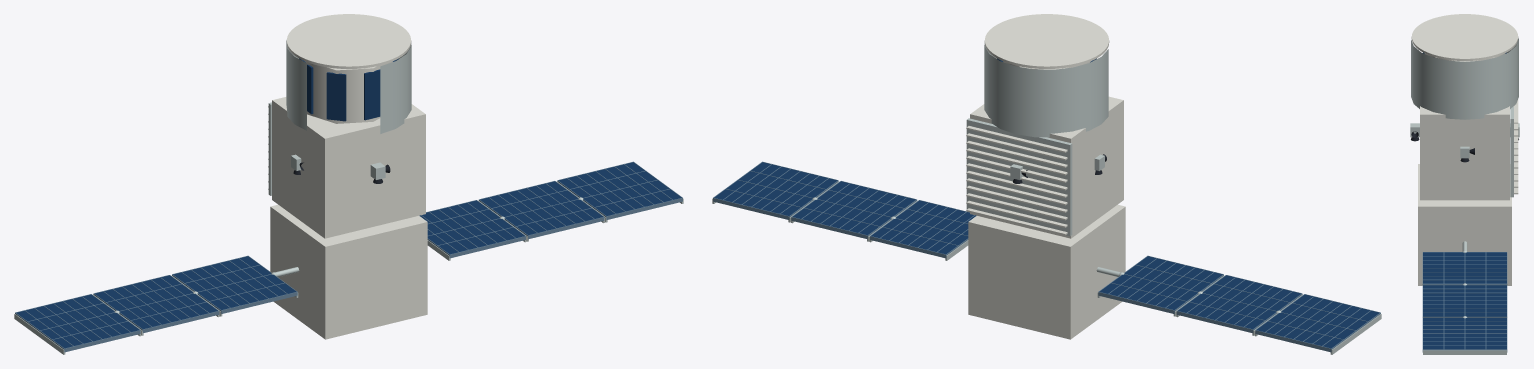
The model's file is bepicolombo.glb.
The picture shows the model from 3 angles, left to right: view 1: azimuth 30°, elevation 25°; view 2: azimuth 150°, elevation 25°; view 3: azimuth 270°, elevation 25°; orthographic projection. The views are drawn at different scales.
Visible parts, largest first — view 1: photovoltaic-panel (×6), body, service, heatshield, solar (×6), payload, propulsion; view 2: photovoltaic-panel (×6), service, body, heatshield, solar (×6); view 3: heatshield, body, photovoltaic-panel (×3), service, solar (×3), propulsion, payload.
Boxes of the visible parts, <box> form: photovoltaic-panel (×6): <box>16,162,681,348</box>; body: <box>268,97,425,238</box>; service: <box>270,204,427,339</box>; heatshield: <box>286,14,411,133</box>; solar (×6): <box>14,161,683,354</box>; payload: <box>299,58,398,123</box>; propulsion: <box>291,154,390,183</box>; photovoltaic-panel (×6): <box>714,162,1379,348</box>; service: <box>968,204,1125,339</box>; body: <box>966,96,1123,238</box>; heatshield: <box>984,14,1109,137</box>; solar (×6): <box>712,161,1381,354</box>; heatshield: <box>1411,14,1518,119</box>; body: <box>1420,99,1518,200</box>; photovoltaic-panel (×3): <box>1423,252,1506,349</box>; service: <box>1418,164,1511,285</box>; solar (×3): <box>1422,252,1507,354</box>; propulsion: <box>1410,123,1519,162</box>; payload: <box>1423,52,1506,61</box>.
Bounding box in the file's own units: 9.09 × 3.8 × 1.62.
